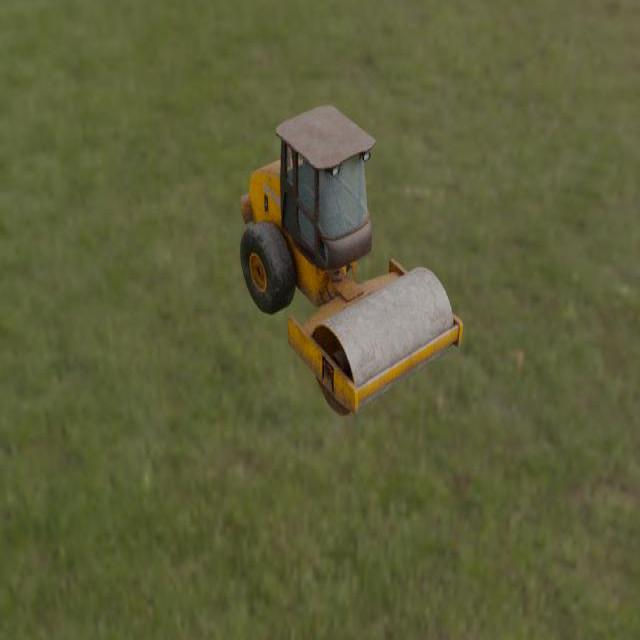Roller: (239, 104, 463, 417)
